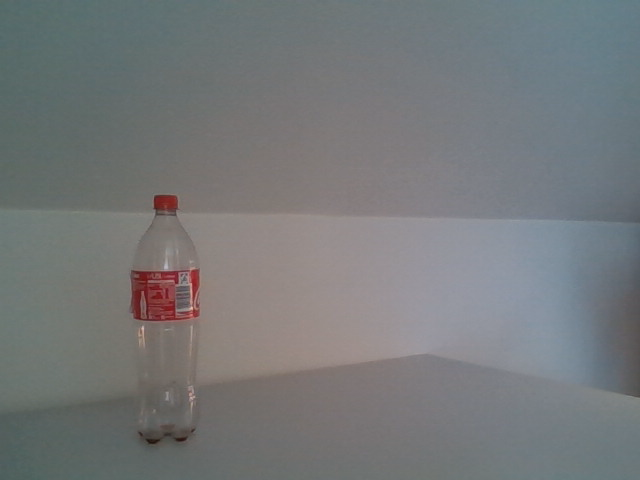bottle: (131, 195, 200, 445)
